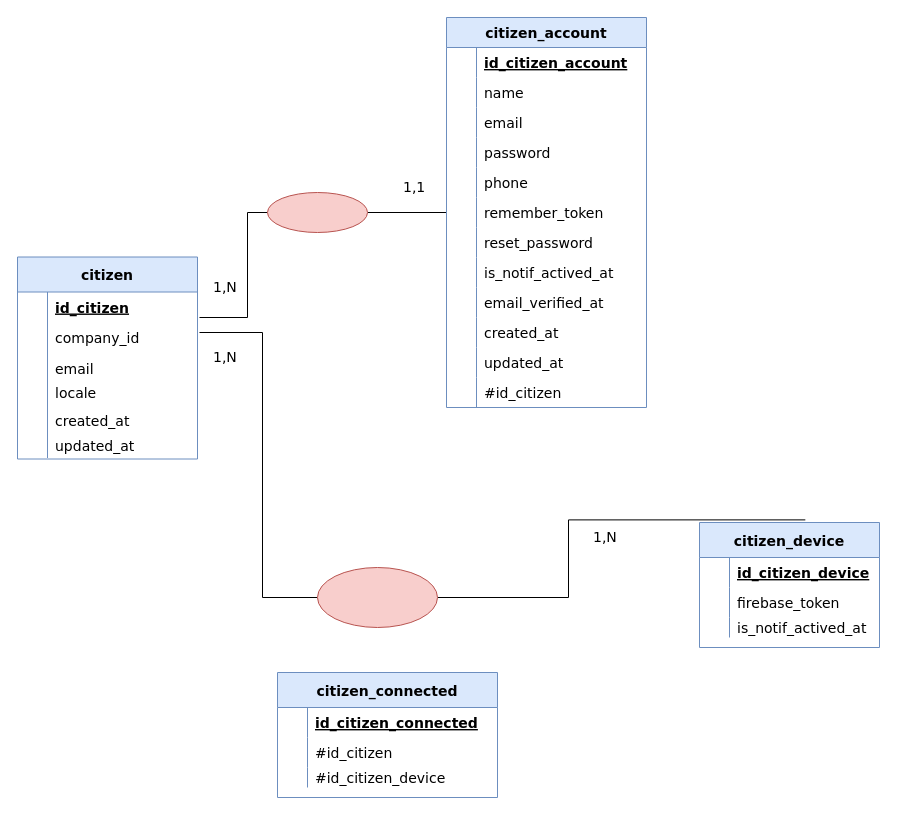
Image size: 897x815. Some labels were removed from this diagram. Each missing label, with the centre of its shape:
"connected" goes at [377,597].
"have" goes at [317,212].
